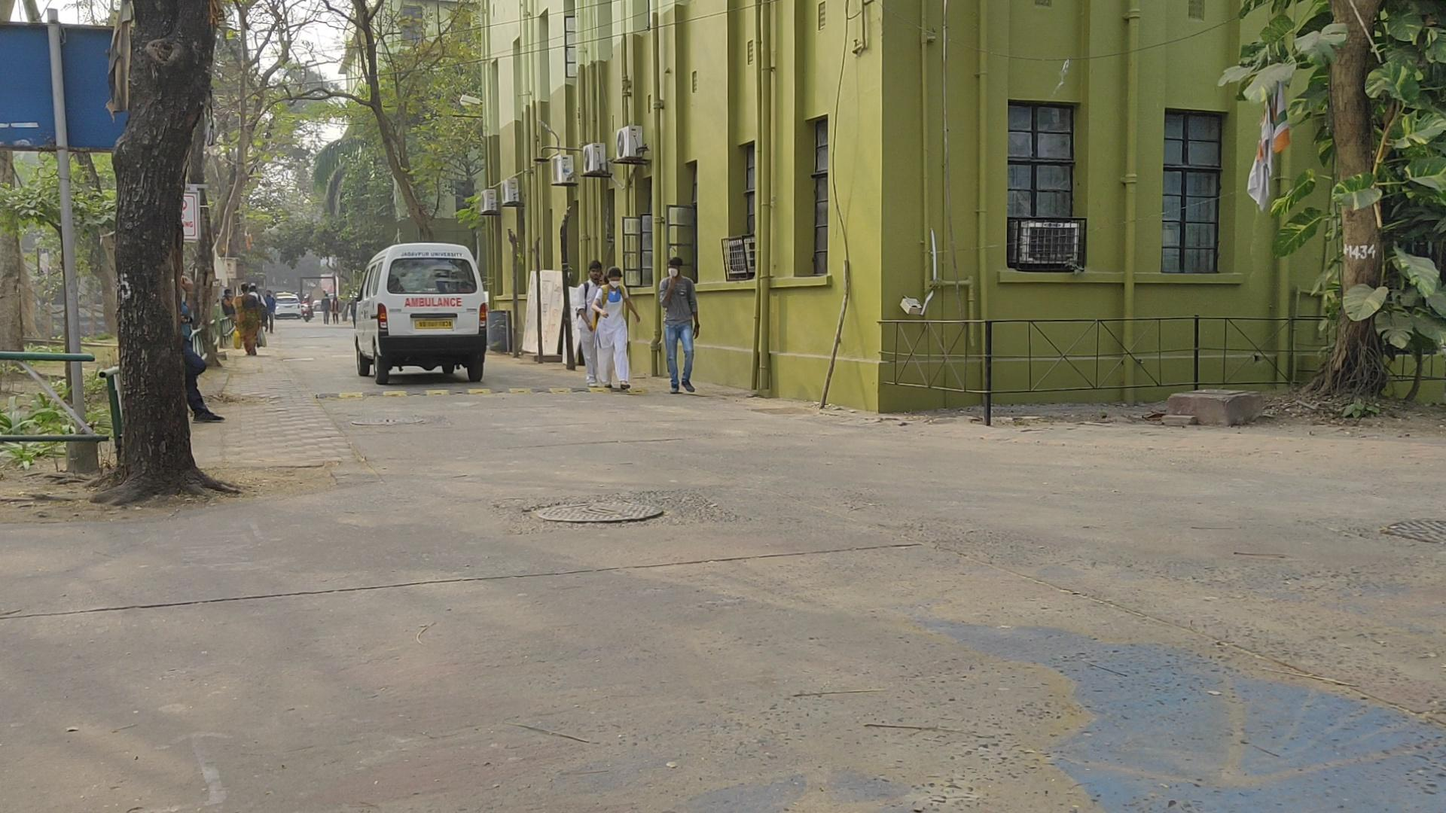bike: (300, 294, 314, 322)
car: (274, 294, 302, 320)
van: (352, 242, 490, 385)
